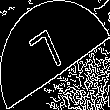L_SE: (34, 25, 76, 85)
